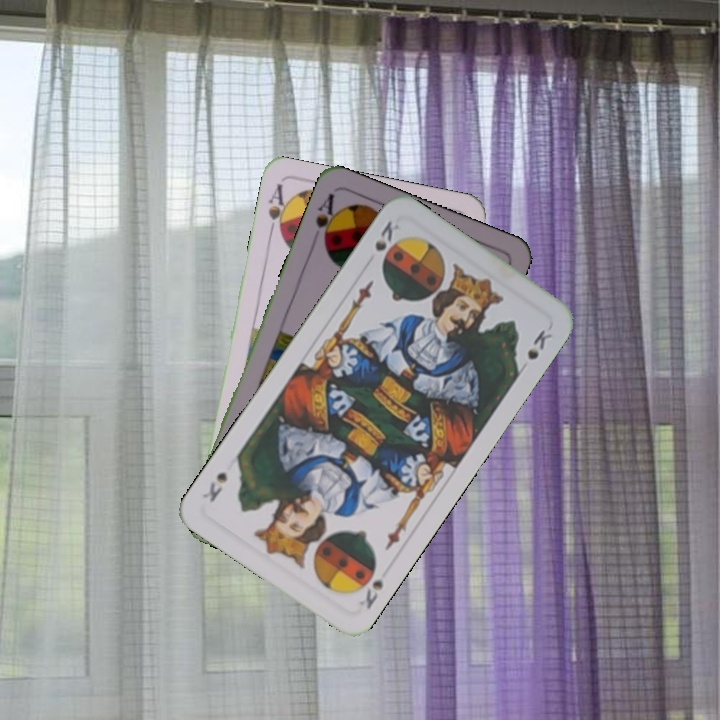SA: (311, 189, 343, 249), (264, 180, 292, 241)
SK: (370, 216, 402, 254), (355, 574, 386, 612)
